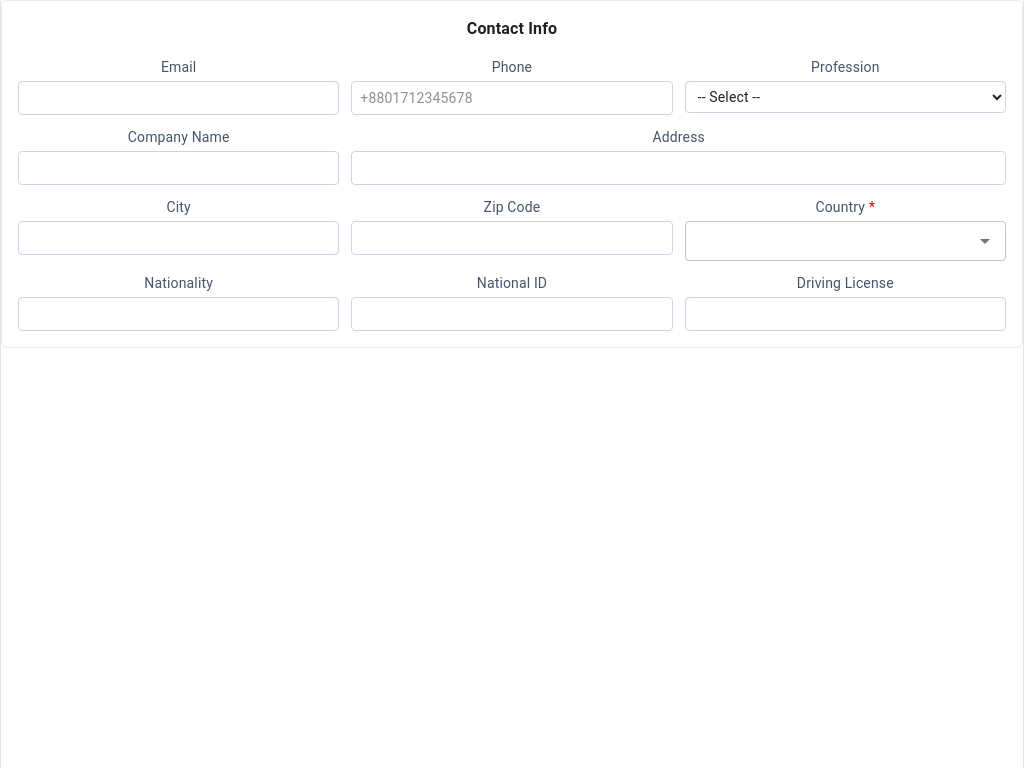
GuestContactSection › shows inline error when zip is non-numeric
Type "abc" into the field with test id "guest-zip" at point(512, 238), box [351,221,673,255]
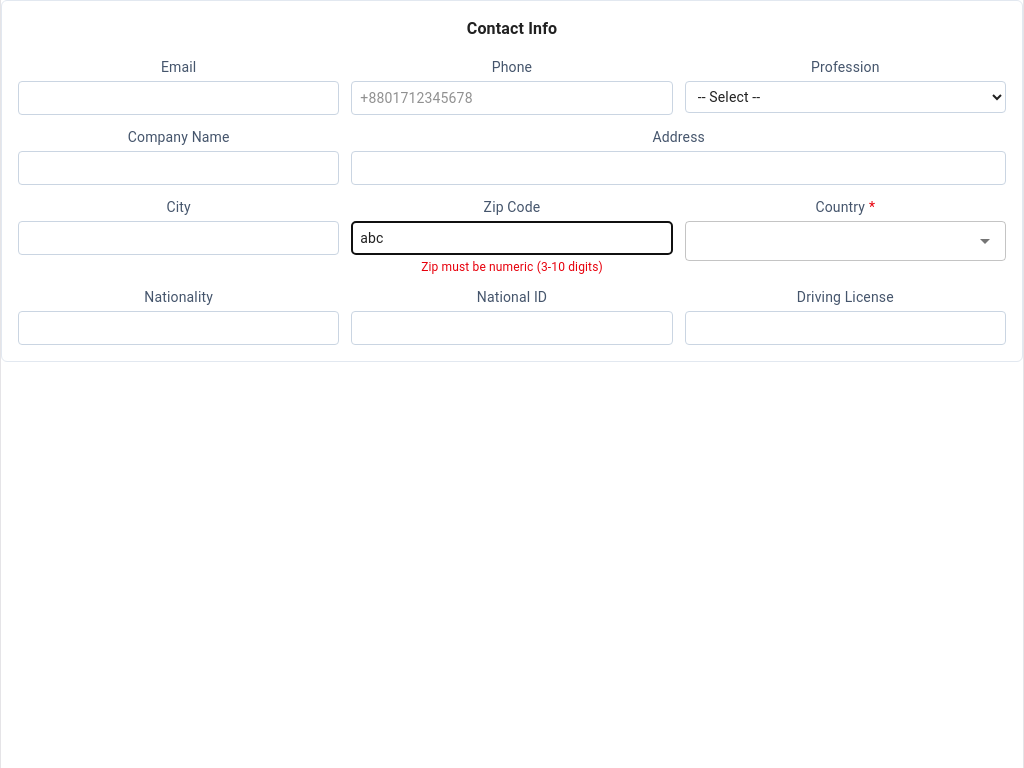
Check: the text "Zip must be numeric (3-10 digits)" is shown, box [421,260,603,274]
